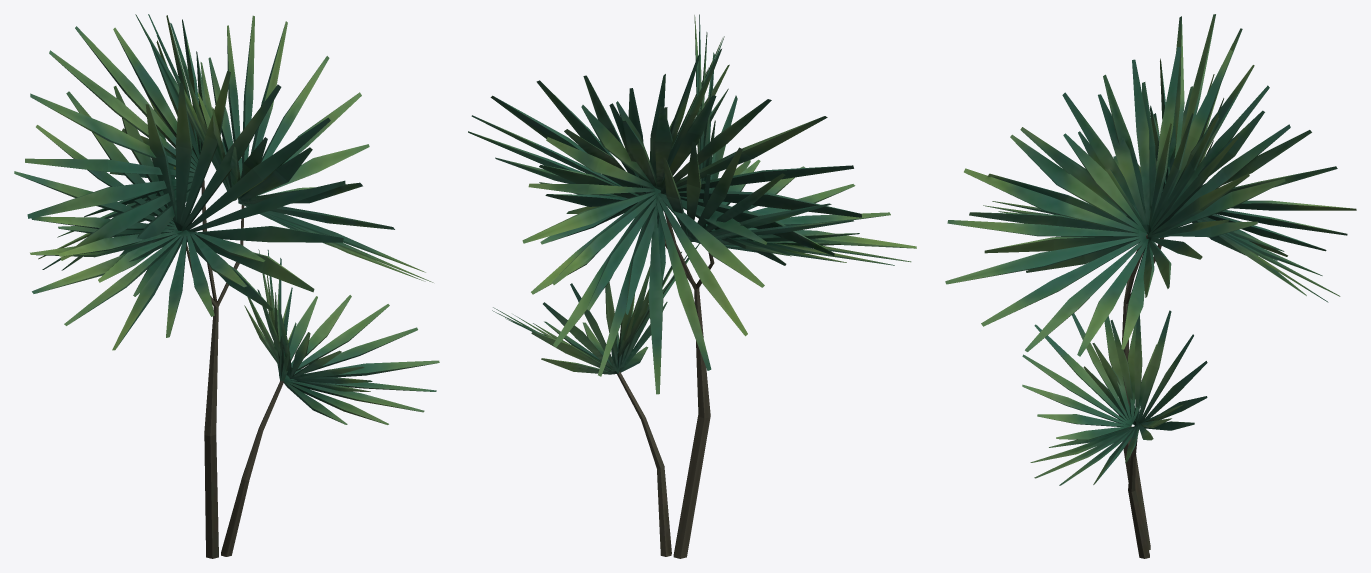
File: plady.glb
3 renders of one model, left to right at view 1: azimuth 30°, elevation 25°; view 2: azimuth 150°, elevation 25°; view 3: azimuth 270°, elevation 25°, orthographic. The views are drawn at different scales.
Visible parts, largest first — view 1: polySurface16; view 2: polySurface16; view 3: polySurface16.
Boxes of the visible parts, x1,y1,x2,y2 form: polySurface16: [14, 14, 439, 558]; polySurface16: [468, 14, 916, 558]; polySurface16: [945, 14, 1356, 558].
Size of the model in its own units: 13.02 by 16.28 by 12.49.
Materials: 1 (1 with a texture image).
